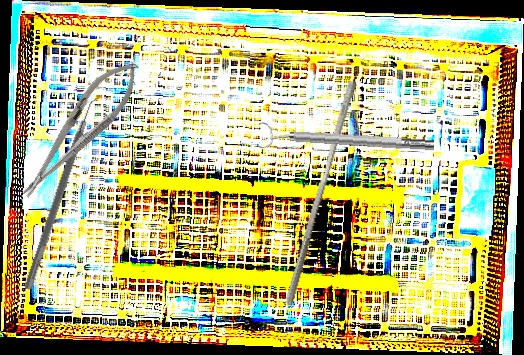Fixation Ring: (257, 119, 435, 162)
Needle Holder: (8, 50, 151, 208)
Pusher: (284, 76, 358, 311)
Spatula Surgical: (23, 90, 105, 294)
